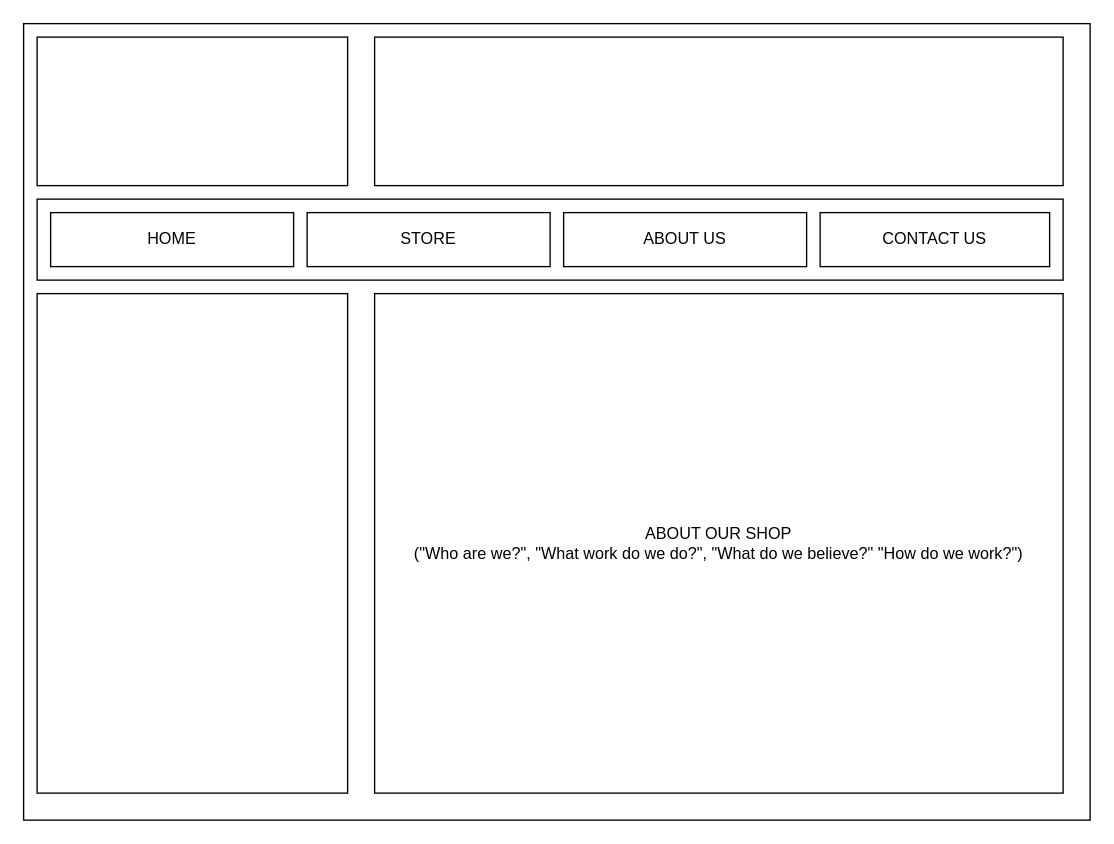
This 1114x844 diagram has some shape labels left out. The centre of each missing label's shape, as x and y in pixels:
"LOGO" belongs at pixel 192 111.
"OUR SOCIAL MEDIA" belongs at pixel 192 542.
"TITLE OF WEBSITE" belongs at pixel 718 111.
